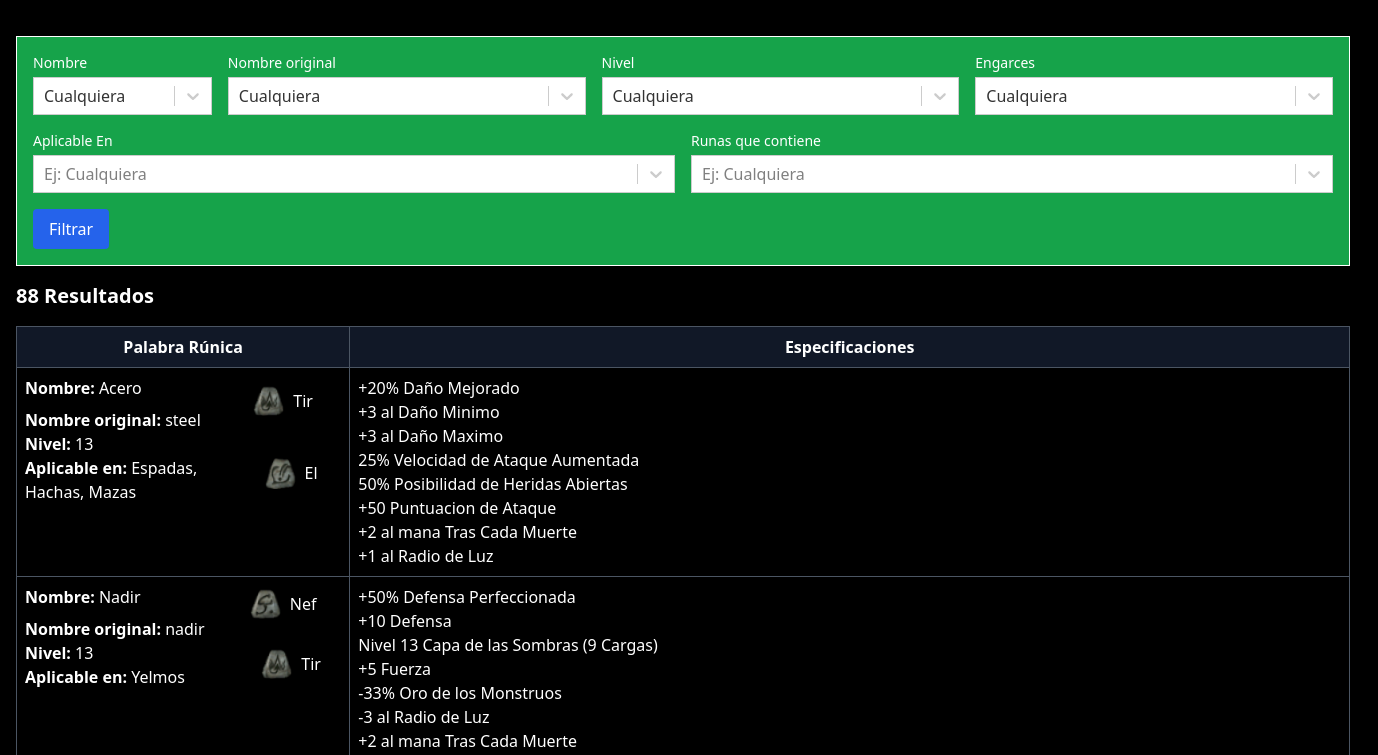
Runewords › combines name and holes filters
This screenshot has width=1378, height=755.
Click the dropdown labelled "Nombre".
click(46, 96)  # box [44, 84, 48, 108]
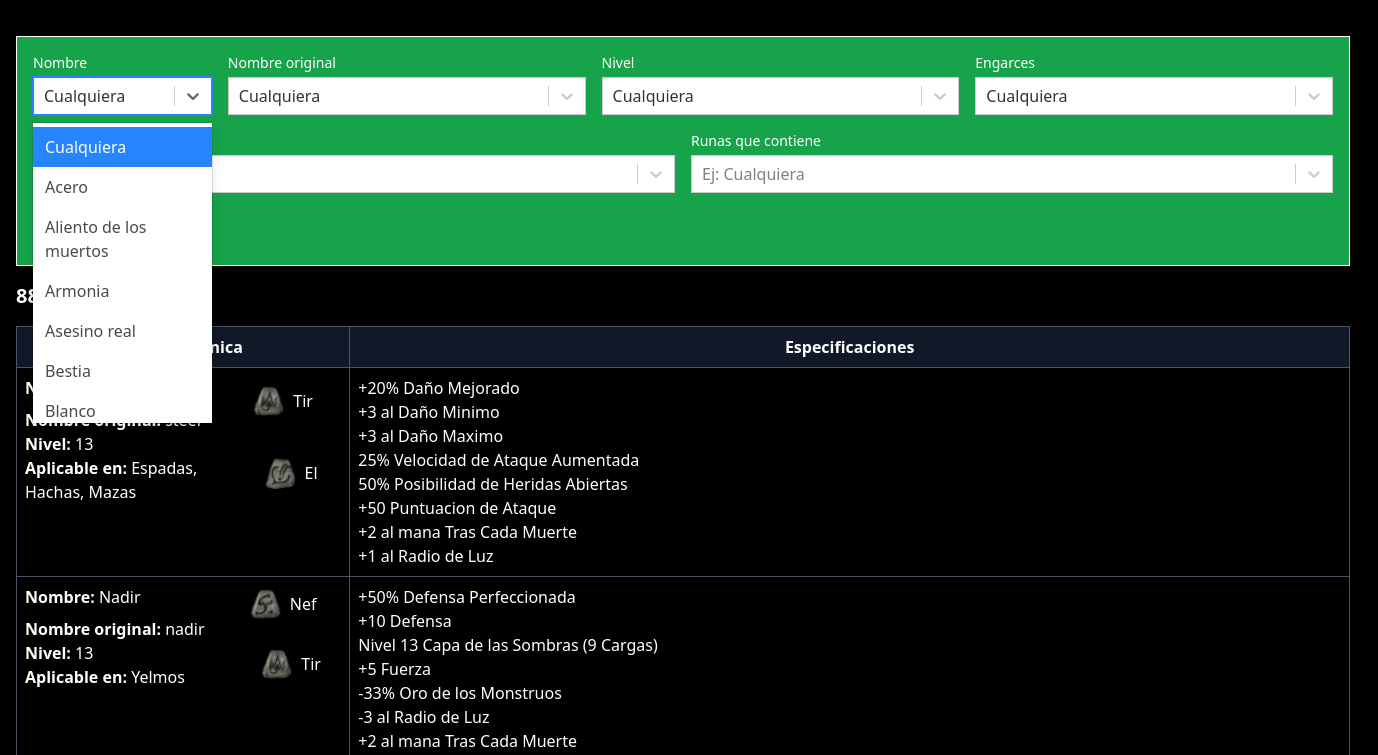
Click the option "Acero".
click(66, 187)  # box [45, 176, 88, 198]
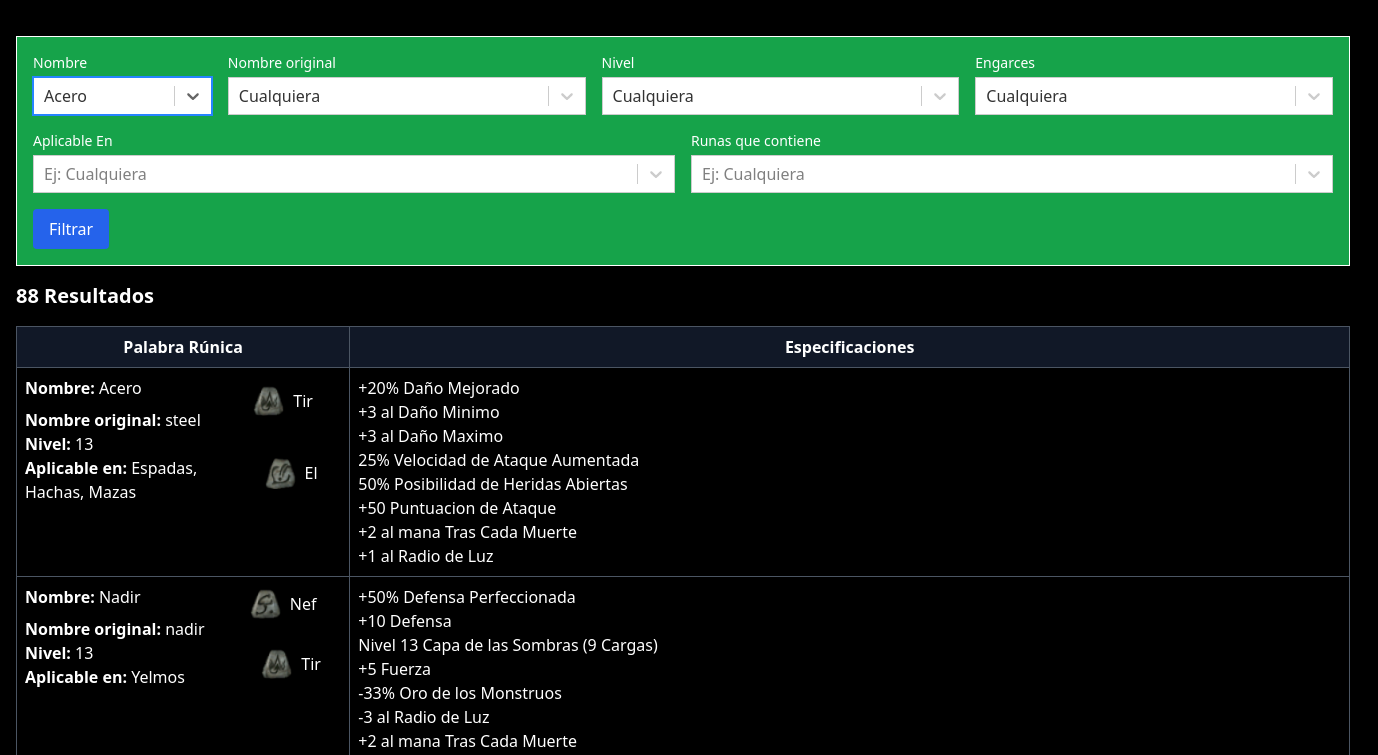
Click the dropdown labelled "Engarces".
click(988, 96)  # box [986, 84, 990, 108]
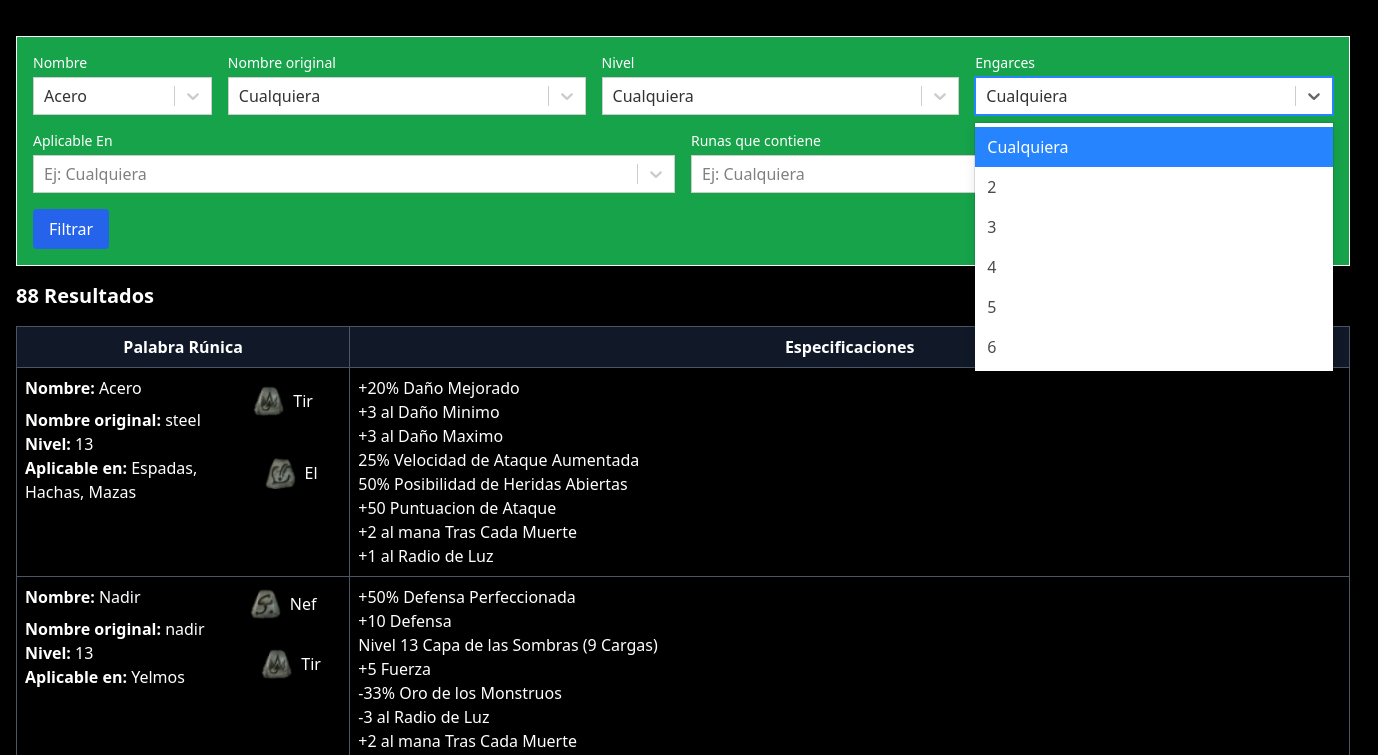
Click the option "3".
click(992, 227)  # box [987, 216, 996, 238]
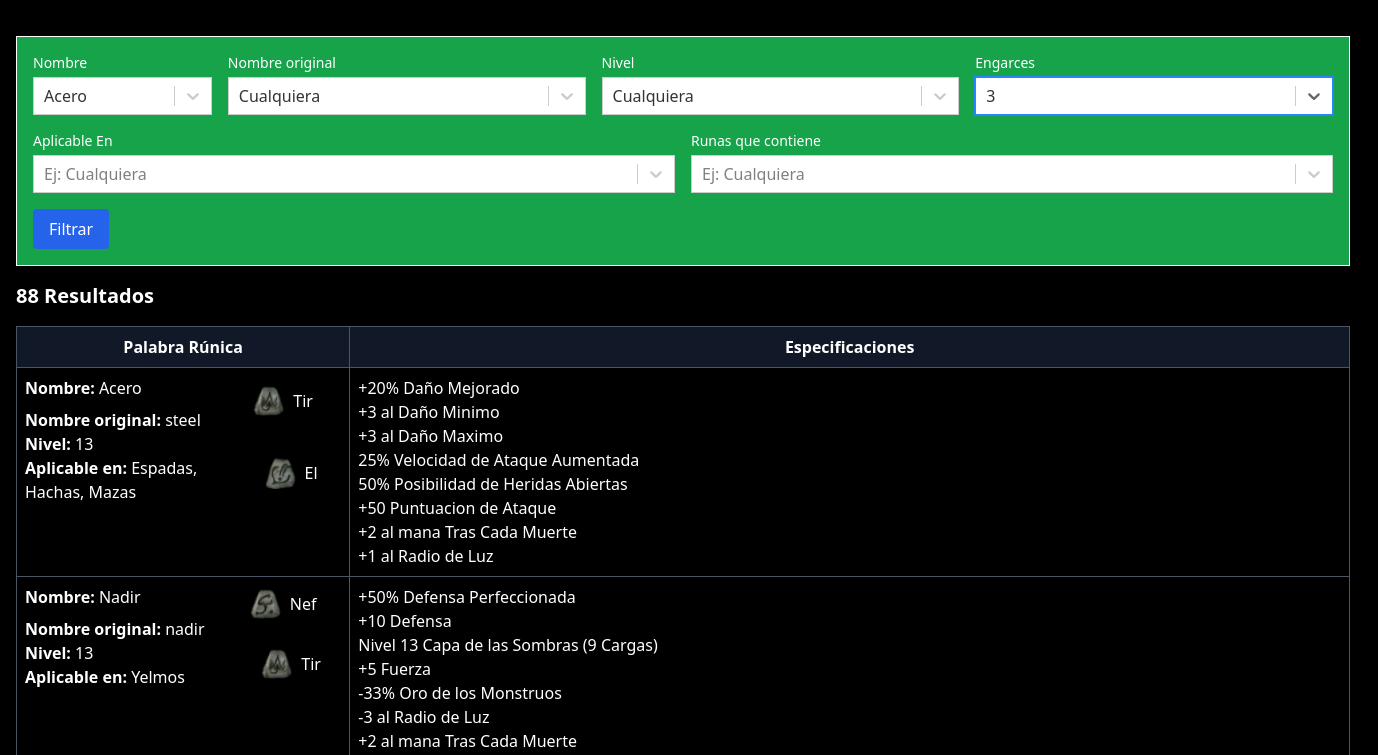
Click the button "Filtrar".
click(71, 229)  # box [33, 209, 109, 249]
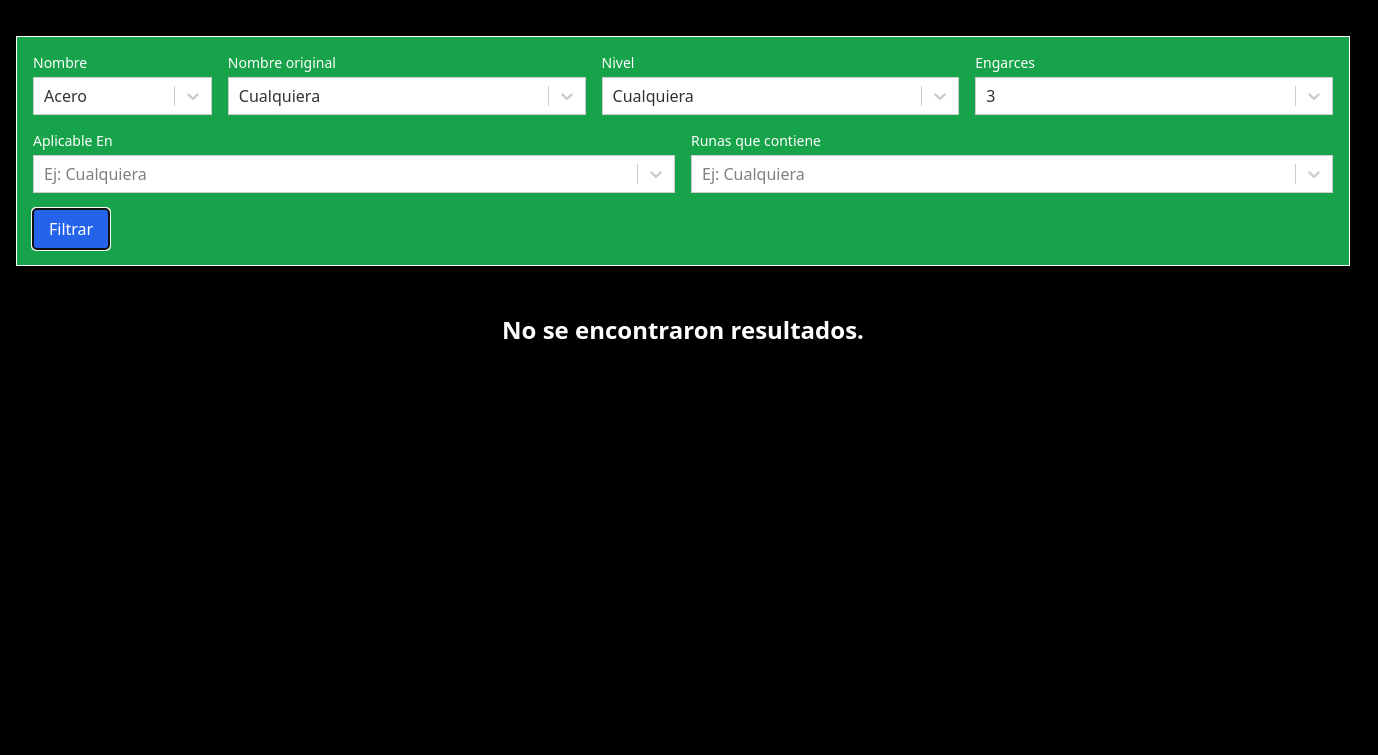
Expected: the heading "No se encontraron resultados." is shown, [502, 313, 864, 346]
